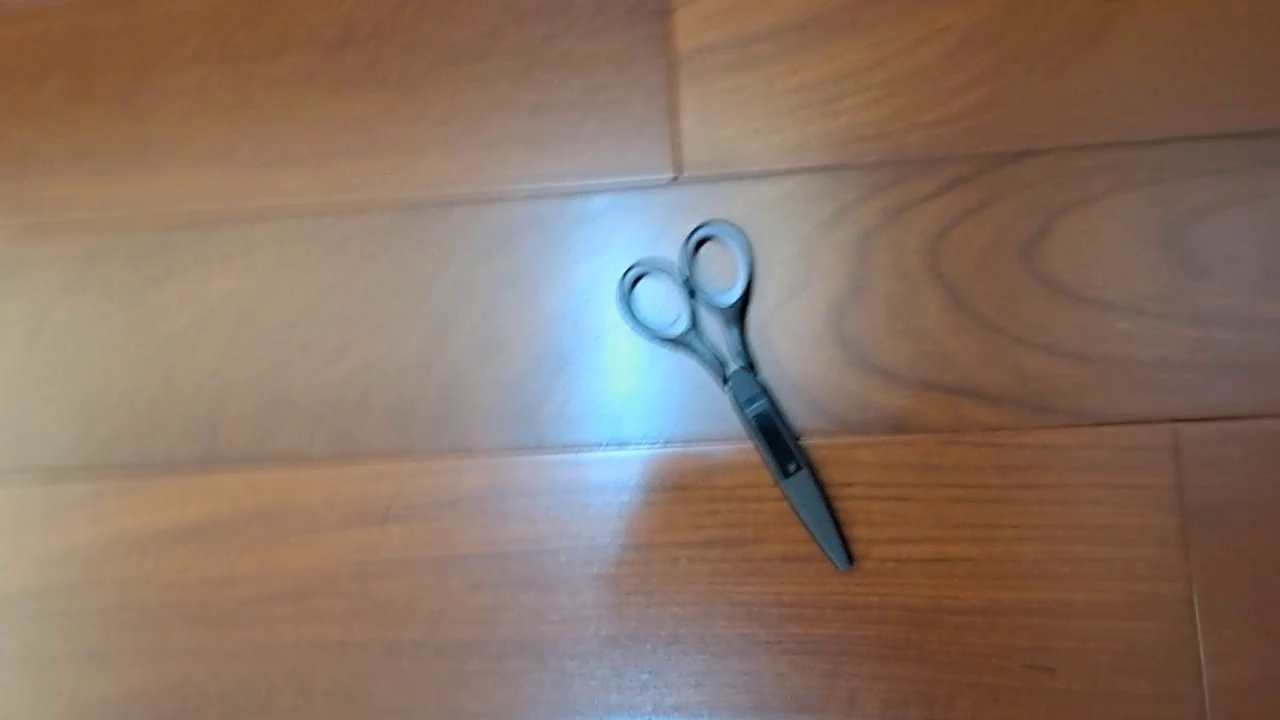scissors: (615, 218, 858, 575)
